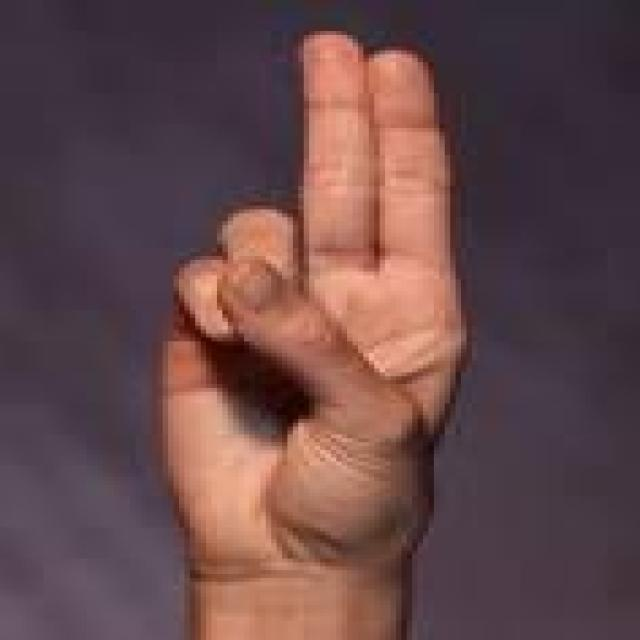U: (144, 23, 485, 578)
